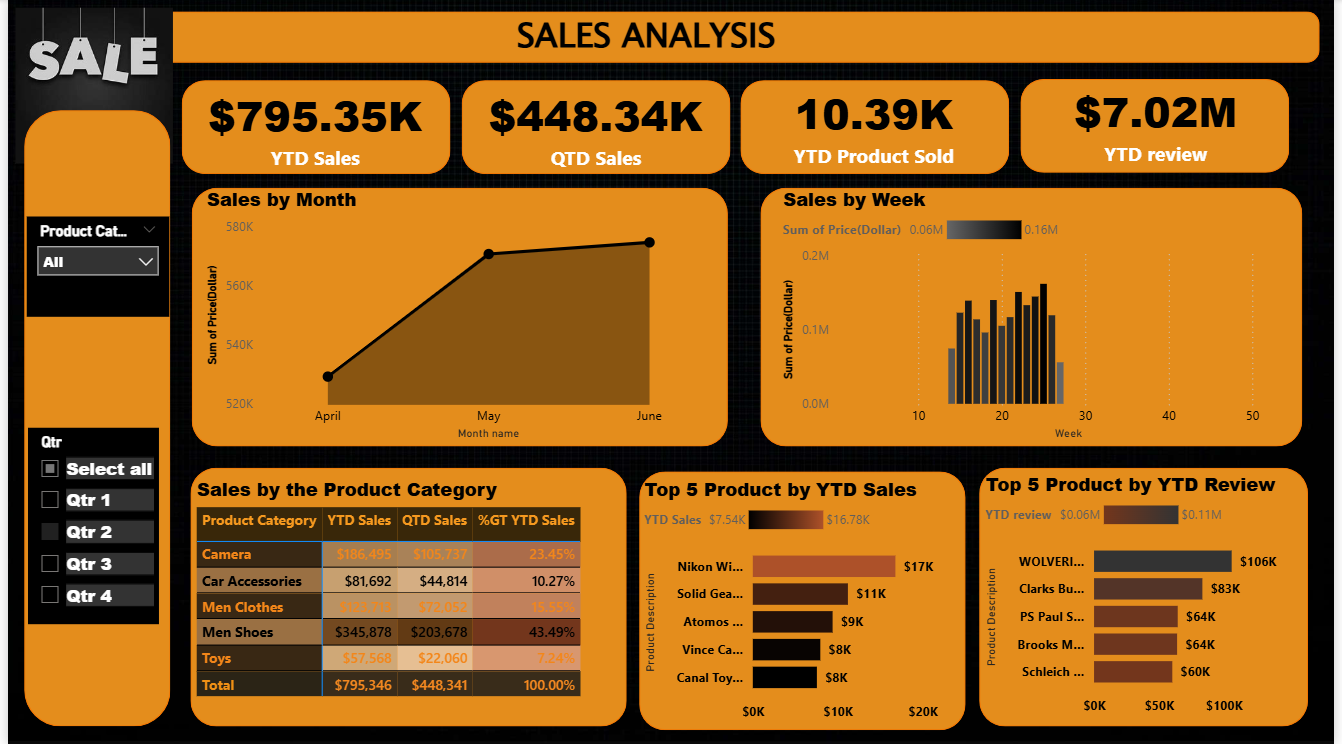

The dashboard page shown, as its layout file describes it:
{"tool":"powerbi","page":{"name":"Page 1","canvas":[1280,720],"ordinal":0},"visuals":[{"type":"shape","box":[15.1,12.3,1250.1,49.4],"z":0},{"type":"image","box":[0,3.6,166.5,160.5],"z":1000},{"type":"shape","box":[437.5,78.2,259.3,90.6],"z":2000},{"type":"textbox","box":[485.8,5.5,308.7,70],"z":3000},{"type":"shape","box":[15.7,107.4,141.2,594.8],"z":4000},{"type":"shape","box":[167.7,78.8,259.3,90.6],"z":5000},{"type":"card","fields":{"Values":["Amazon_Data.Year to date Sales"]},"box":[166,79.6,260.7,87.8],"z":6000},{"type":"card","fields":{"Values":["Amazon_Data.QTD Sales"]},"box":[437.7,79.6,259.3,87.8],"z":7000},{"type":"shape","box":[706.7,78.2,259.3,90.6],"z":8000},{"type":"shape","box":[977,76.8,259.3,90.6],"z":9000},{"type":"card","fields":{"Values":["Amazon_Data.YTD Product Sold"]},"box":[705.3,78.2,260.7,87.8],"z":10000},{"type":"card","fields":{"Values":["Amazon_Data.YTD review"]},"box":[978.4,75.5,259.3,87.8],"z":11000},{"type":"shape","box":[177,182.5,517.3,249.7],"z":12000},{"type":"areaChart","title":"Sales by Month","fields":{"Category":["Date Table.Month name"],"Y":["Sum(Amazon_Data.Price(Dollar))"]},"box":[186.6,181.1,499.5,249.7],"z":13000},{"type":"shape","box":[725.9,182.5,522.8,249.7],"z":14000},{"type":"columnChart","title":"Sales by Week","fields":{"Y":["Sum(Amazon_Data.Price(Dollar))"],"Category":["Date Table.Week"]},"box":[743.7,181.1,510.5,249.7],"z":15000},{"type":"shape","box":[176.1,452.4,421,249.7],"z":16000},{"type":"shape","box":[937.4,452.4,317.3,249.7],"z":17000},{"type":"pivotTable","title":"Sales by the Product Category","fields":{"Rows":["Amazon_Data.Product Category"],"Values":["Amazon_Data.YTD Sales1","Amazon_Data.QTD Sales","Amazon_Data.YTD Sales"]},"box":[177.3,460.9,419.8,241.3],"z":18000},{"type":"shape","box":[609.3,456,314.9,249.7],"z":19000},{"type":"clusteredBarChart","title":"Top 5 Product by YTD Sales","fields":{"Category":["Amazon_Data.Product Description"],"Y":["Amazon_Data.YTD Sales"]},"box":[609.3,460.9,314.9,244.9],"z":20000},{"type":"clusteredBarChart","title":"Top 5 Product by YTD Review","fields":{"Category":["Amazon_Data.Product Description"],"Y":["Amazon_Data.YTD review"]},"box":[938.6,455.6,317,244.3],"z":21000},{"type":"slicer","fields":{"Values":["Amazon_Data.Product Category"]},"box":[18.1,209.9,137.5,96.5],"z":22000},{"type":"slicer","fields":{"Values":["Date Table.Qtr"]},"box":[19.3,413.8,126.7,189.4],"z":23000}]}

Visuals, with their boxes in screenshot pixels (x1, y1, x2, y2), scaled from the page's 1280x720 canvas onto the 1342x744 screenshot:
shape: {"x1": 16, "y1": 13, "x2": 1326, "y2": 64}
image: {"x1": 0, "y1": 4, "x2": 175, "y2": 170}
shape: {"x1": 459, "y1": 81, "x2": 731, "y2": 174}
textbox: {"x1": 509, "y1": 6, "x2": 833, "y2": 78}
shape: {"x1": 16, "y1": 111, "x2": 164, "y2": 726}
shape: {"x1": 176, "y1": 81, "x2": 448, "y2": 175}
card - Amazon_Data.Year to date Sales: {"x1": 174, "y1": 82, "x2": 447, "y2": 173}
card - Amazon_Data.QTD Sales: {"x1": 459, "y1": 82, "x2": 731, "y2": 173}
shape: {"x1": 741, "y1": 81, "x2": 1013, "y2": 174}
shape: {"x1": 1024, "y1": 79, "x2": 1296, "y2": 173}
card - Amazon_Data.YTD Product Sold: {"x1": 739, "y1": 81, "x2": 1013, "y2": 172}
card - Amazon_Data.YTD review: {"x1": 1026, "y1": 78, "x2": 1298, "y2": 169}
shape: {"x1": 186, "y1": 189, "x2": 728, "y2": 447}
"Sales by Month" areaChart: {"x1": 196, "y1": 187, "x2": 719, "y2": 445}
shape: {"x1": 761, "y1": 189, "x2": 1309, "y2": 447}
"Sales by Week" columnChart: {"x1": 780, "y1": 187, "x2": 1315, "y2": 445}
shape: {"x1": 185, "y1": 467, "x2": 626, "y2": 726}
shape: {"x1": 983, "y1": 467, "x2": 1315, "y2": 726}
"Sales by the Product Category" pivotTable: {"x1": 186, "y1": 476, "x2": 626, "y2": 726}
shape: {"x1": 639, "y1": 471, "x2": 969, "y2": 729}
"Top 5 Product by YTD Sales" clusteredBarChart: {"x1": 639, "y1": 476, "x2": 969, "y2": 729}
"Top 5 Product by YTD Review" clusteredBarChart: {"x1": 984, "y1": 471, "x2": 1316, "y2": 723}
slicer - Amazon_Data.Product Category: {"x1": 19, "y1": 217, "x2": 163, "y2": 317}
slicer - Date Table.Qtr: {"x1": 20, "y1": 428, "x2": 153, "y2": 623}
